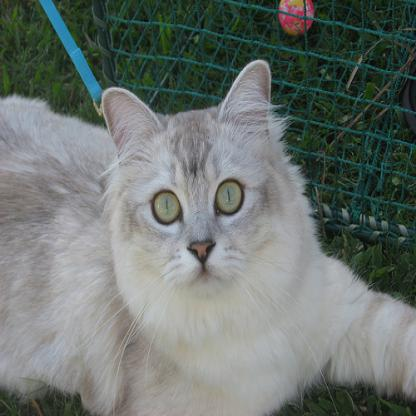cat: (0, 58, 415, 414)
